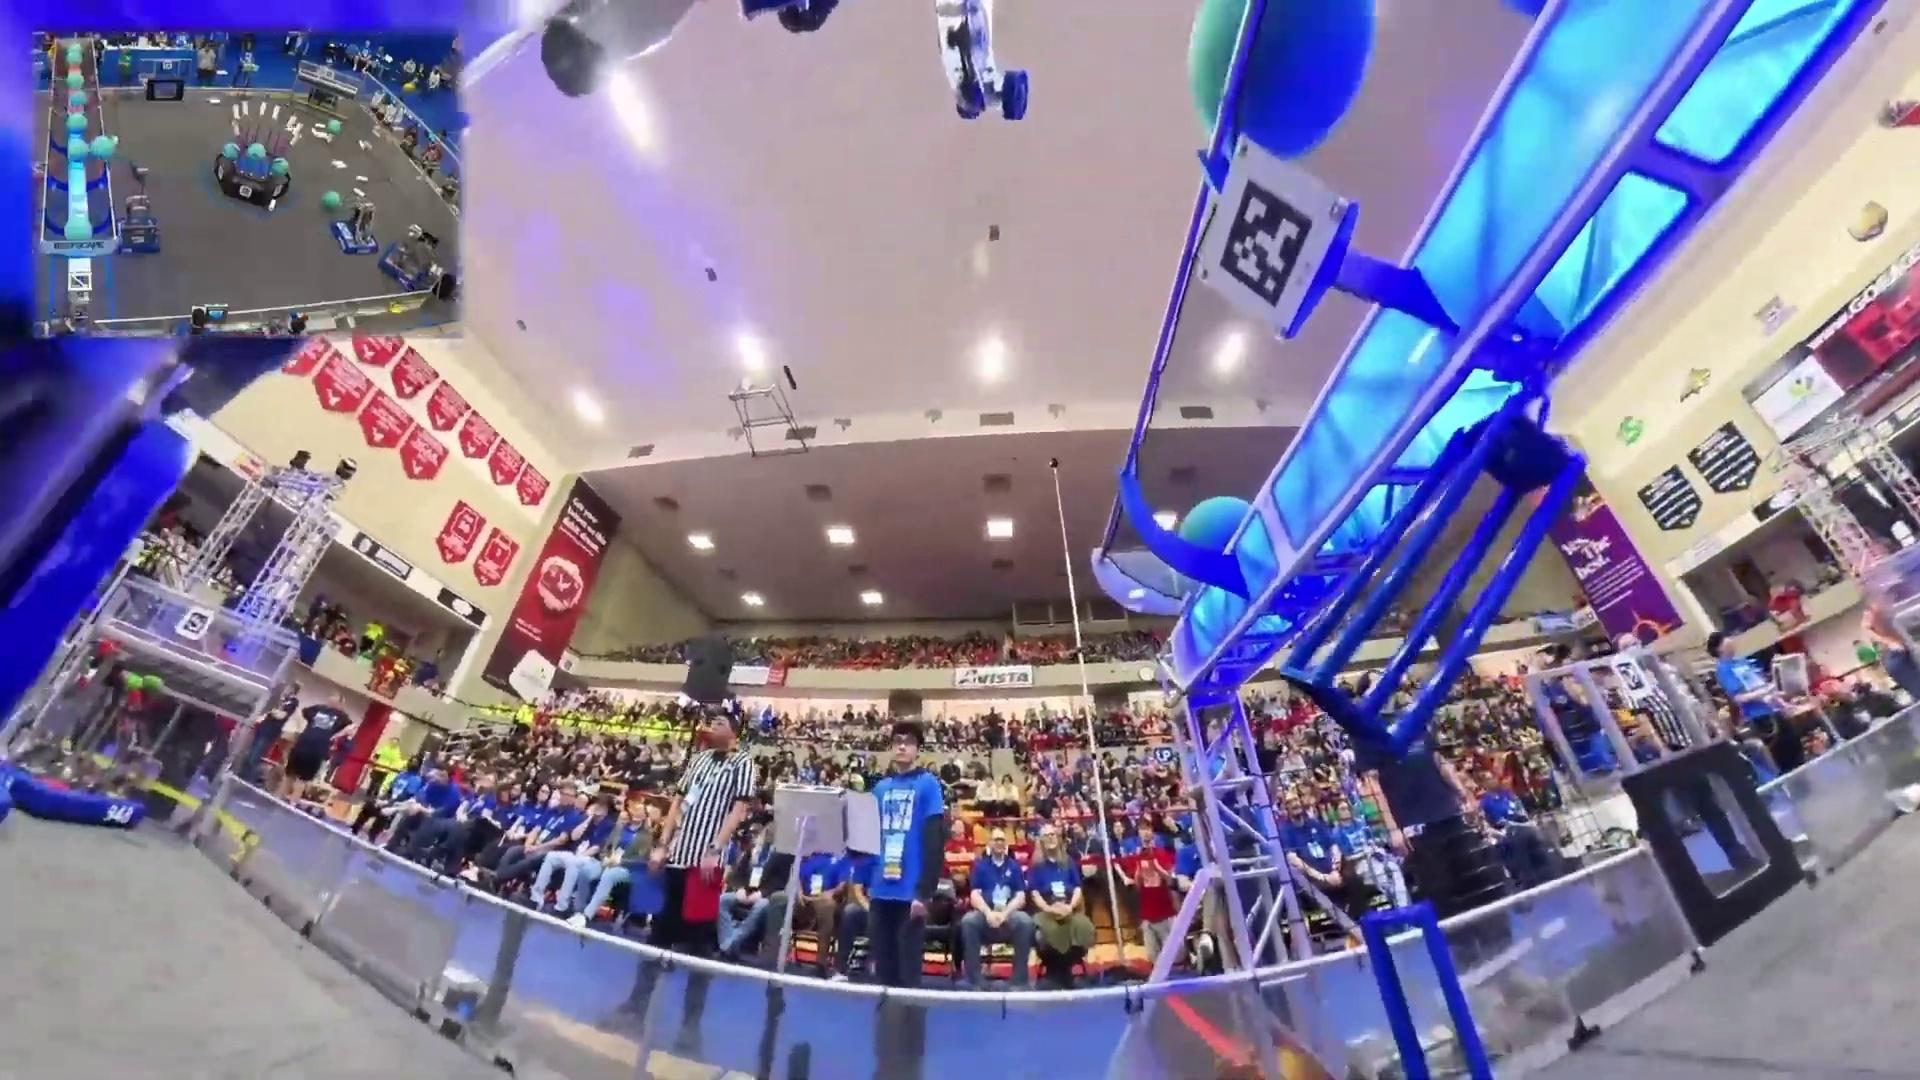robot: (7, 657, 149, 832), (113, 150, 164, 260), (380, 223, 439, 287), (332, 191, 376, 260)
